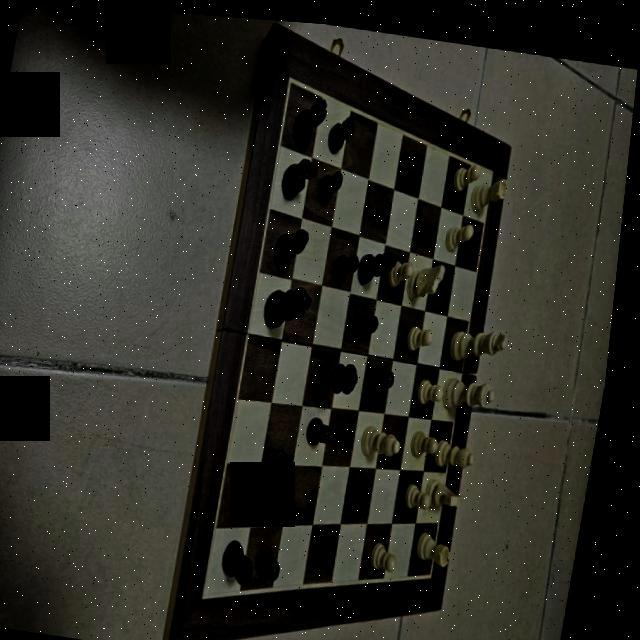chess-table-corners: (210, 584, 223, 600), (286, 70, 298, 86), (434, 560, 448, 573), (488, 158, 498, 172)
